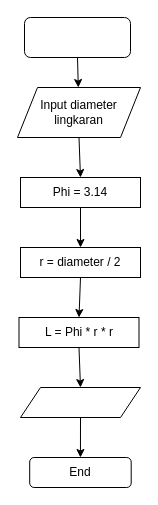
Image size: 158x505. Some labels were removed from this diagram. Each missing label, with the box of its shape:
Output L: (20, 386, 140, 418)
Start: (24, 16, 130, 58)
